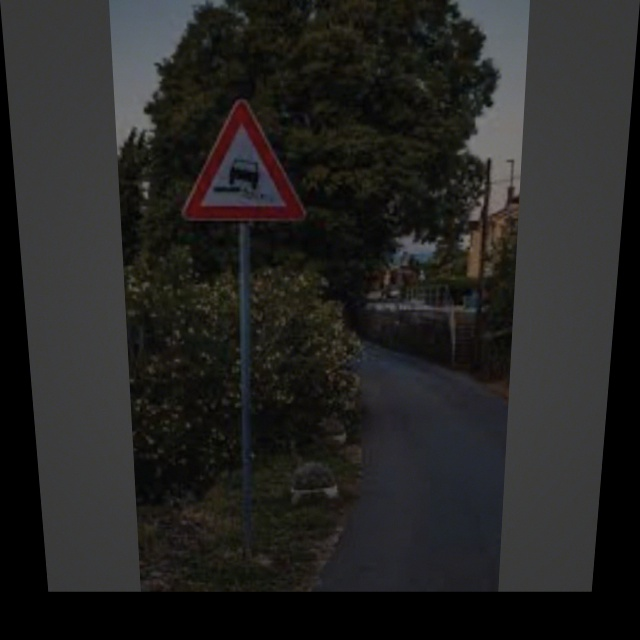Loose_Gravel: (179, 98, 303, 227)
